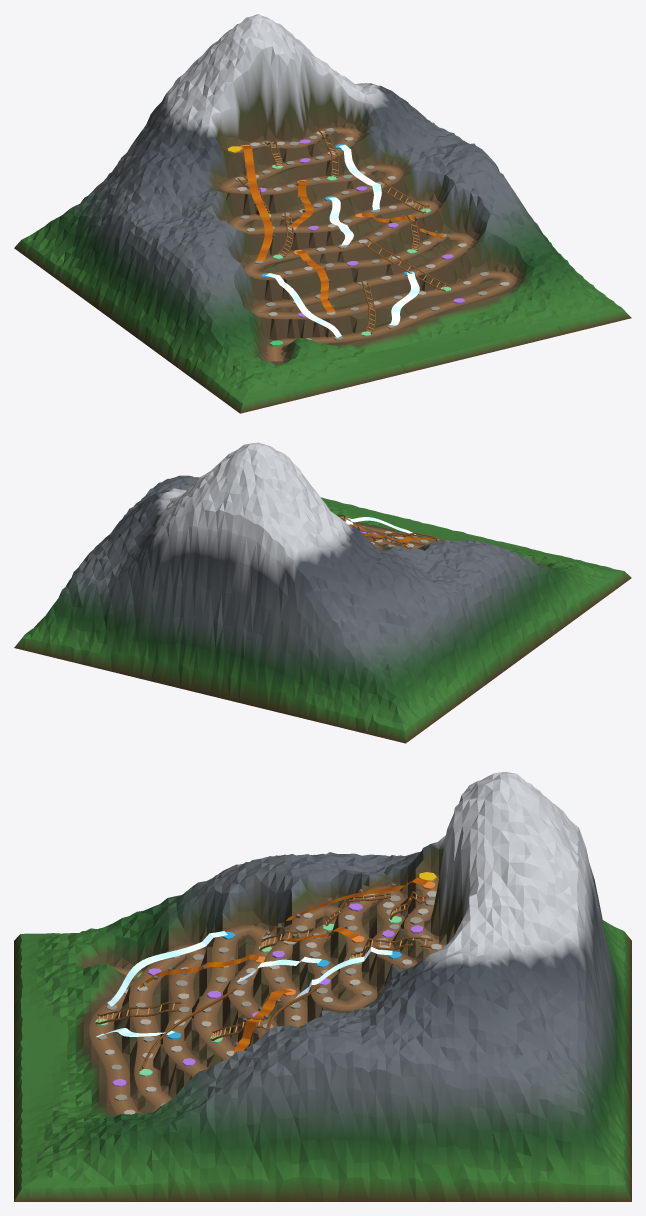
The model's file is mountain_trail.glb.
The picture shows the model from 3 angles, top to bottom: view 1: azimuth 30°, elevation 25°; view 2: azimuth 150°, elevation 25°; view 3: azimuth 270°, elevation 25°; orthographic projection. The views are drawn at different scales.
Parts seen in each view (by area): view 1: MountainTerrain, WindingTrailBed, SteppingStones, LandslideChutes, MountainStreams, CliffLadders; view 2: MountainTerrain, WindingTrailBed; view 3: MountainTerrain, WindingTrailBed, SteppingStones, CliffLadders, LandslideChutes, MountainStreams.
Boxes of the visible parts, box(x1,y1,x2,y2) form: MountainTerrain: box(14, 14, 631, 413); WindingTrailBed: box(219, 127, 516, 361); SteppingStones: box(227, 128, 509, 346); LandslideChutes: box(242, 146, 443, 312); MountainStreams: box(265, 144, 419, 337); CliffLadders: box(237, 130, 449, 334); MountainTerrain: box(14, 442, 631, 743); WindingTrailBed: box(342, 519, 435, 549); MountainTerrain: box(14, 772, 631, 1201); WindingTrailBed: box(89, 877, 445, 1114); SteppingStones: box(95, 872, 441, 1114); CliffLadders: box(95, 891, 432, 1070); LandslideChutes: box(139, 877, 428, 1053); MountainStreams: box(96, 931, 392, 1036).
Size of the model in its own units: 36 by 19.12 by 36.
